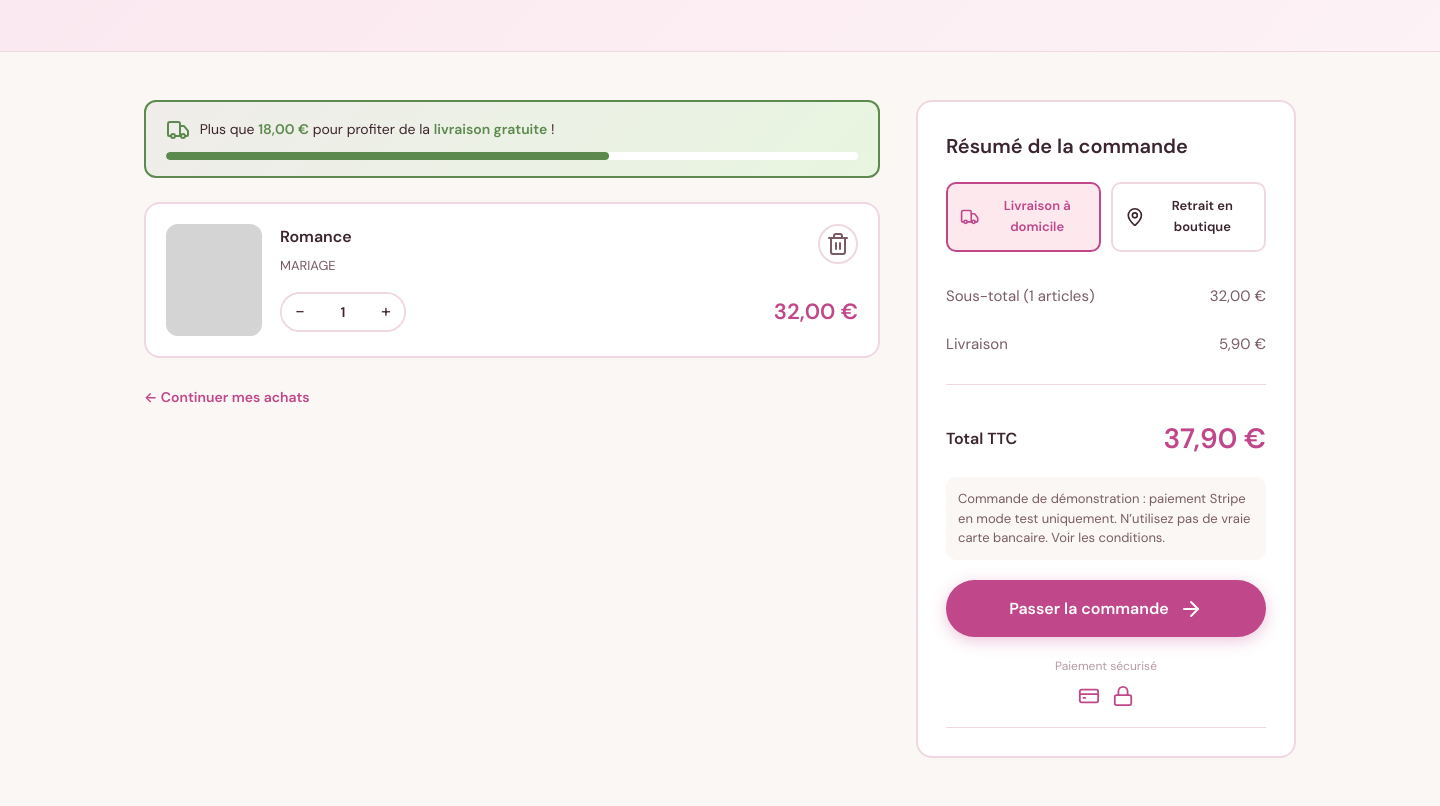
Test case: Panier : transmission de commande et refus › ne crée pas de commande lorsqu’aucune adresse n’existe
(page scrolled)
Click the button "Passer la commande": (1106, 609) [946, 580, 1266, 638]
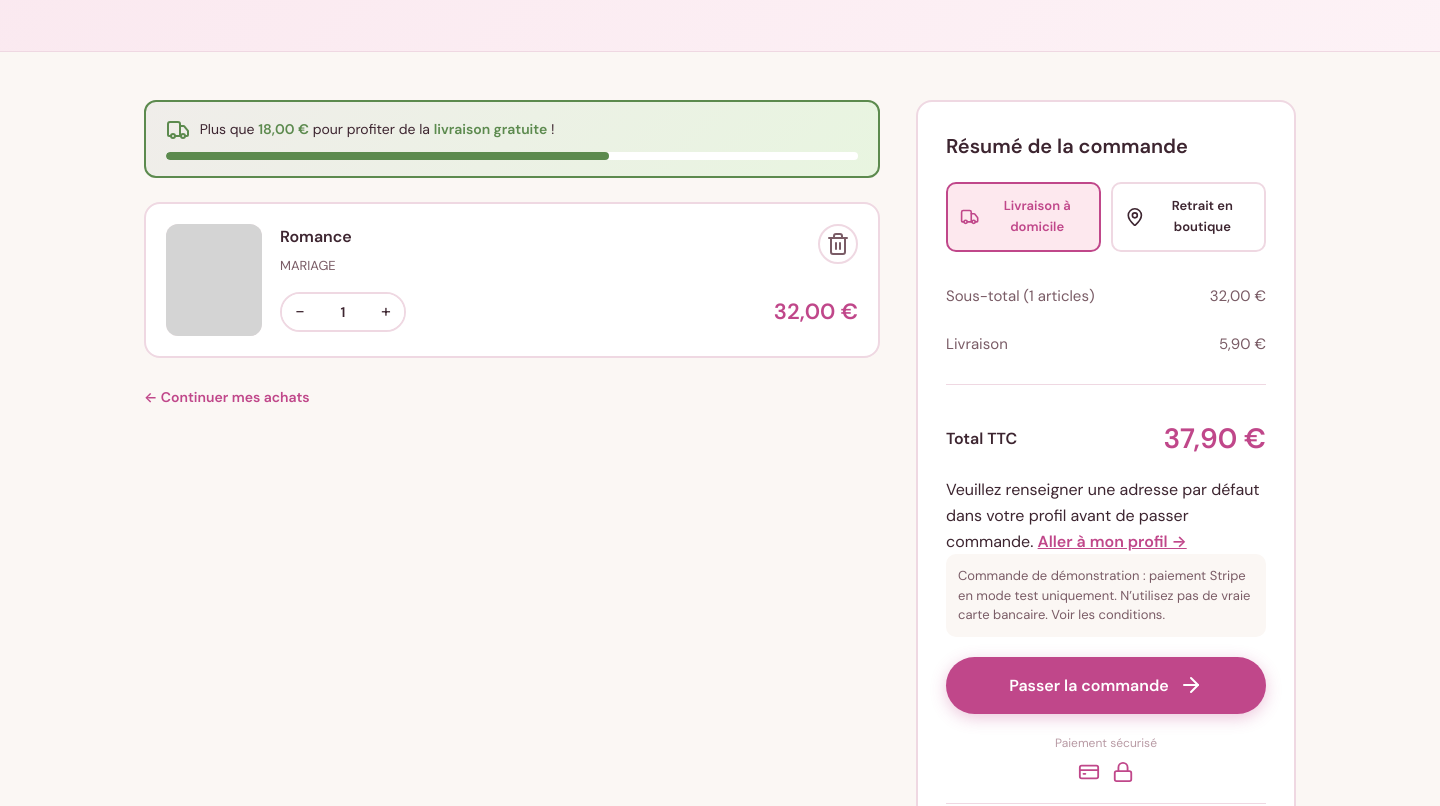
Check: the text "Veuillez renseigner une adresse" is shown, box [946, 479, 1260, 552]
